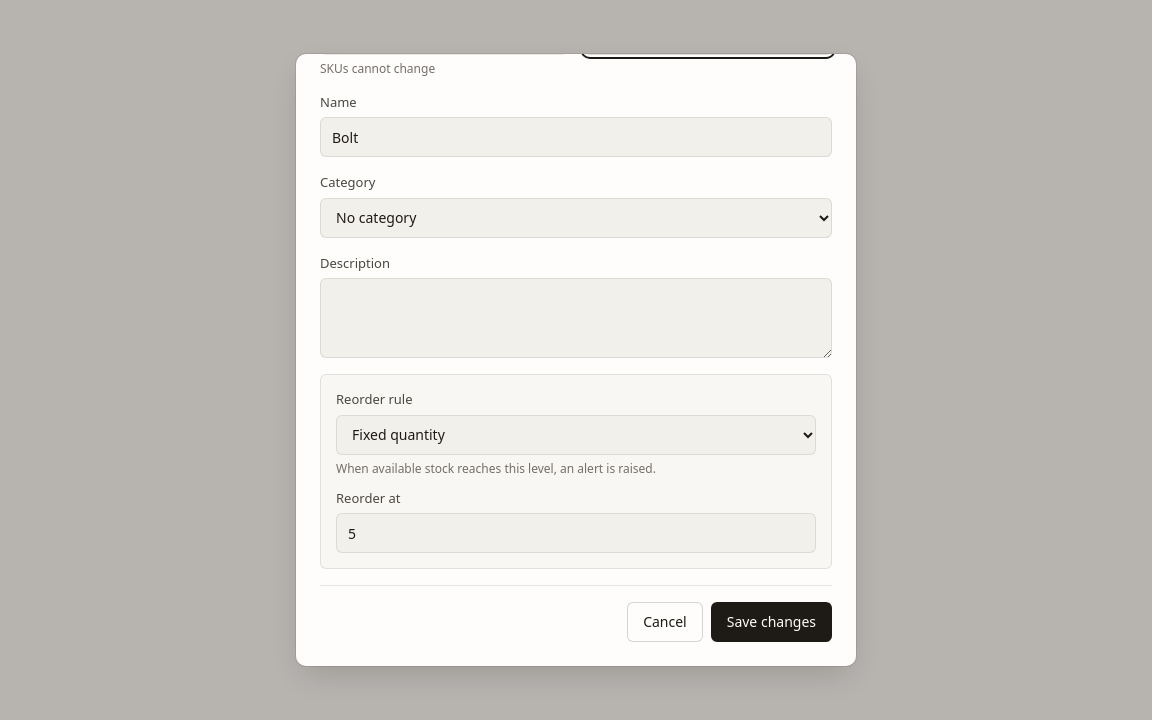
Test case: editing a product › a stale version (409 VERSION_CONFLICT) opens the reload dialog, and reload loads the latest
The width and height of the screenshot is (1152, 720).
(page scrolled)
Click the button "Save changes" at (771, 622), box [711,602,832,642]
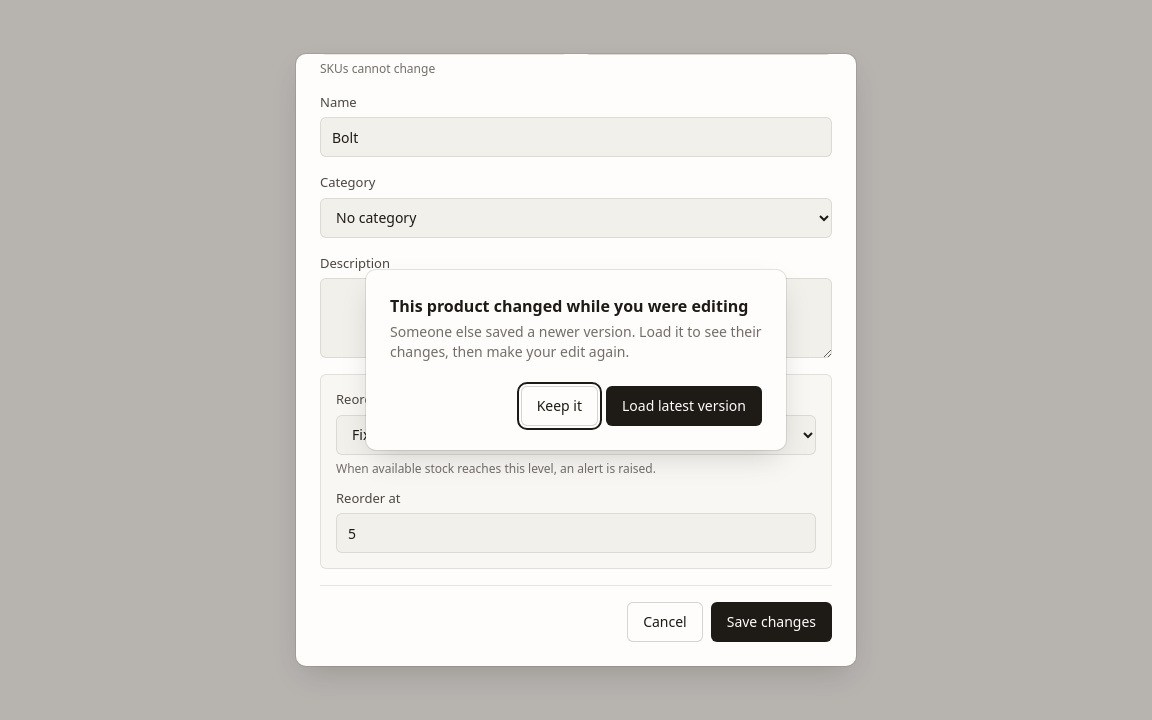
Expected: the 2nd dialog shows "This product changed while you were editing", [390,295,748,317]
Click the button "Load latest version" at (684, 406), box [606,386,762,426]
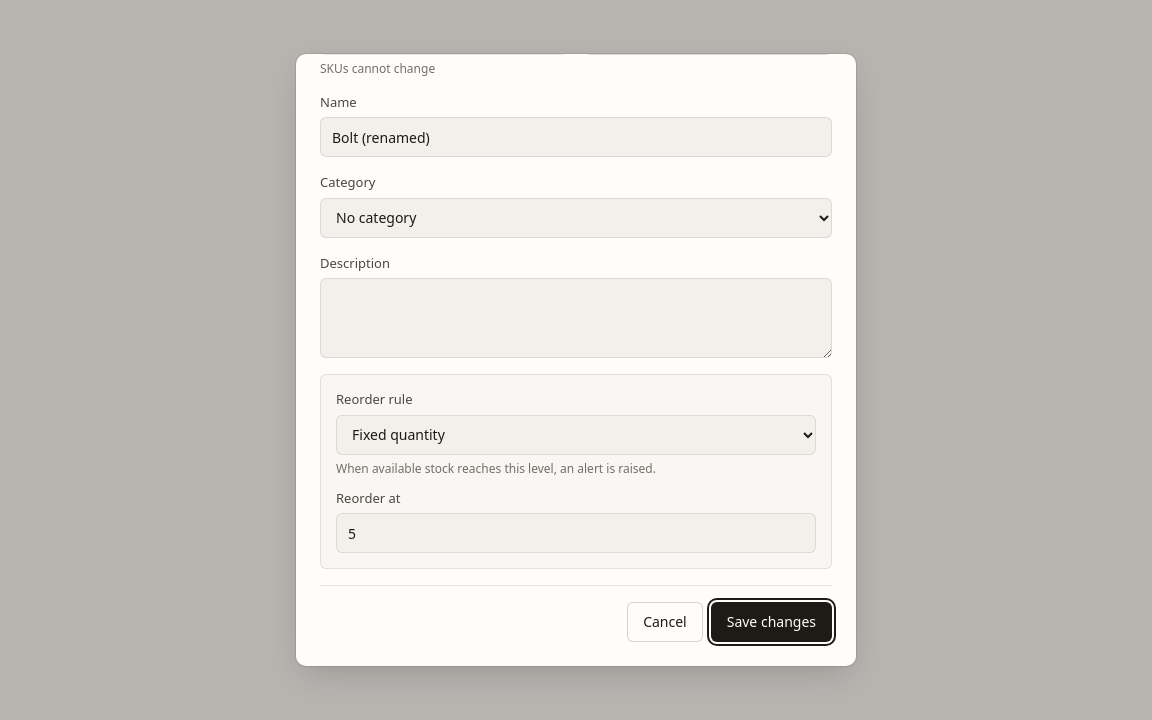
Expected: the field labelled "Name" holds "Bolt (renamed)", [320,117,832,157]
